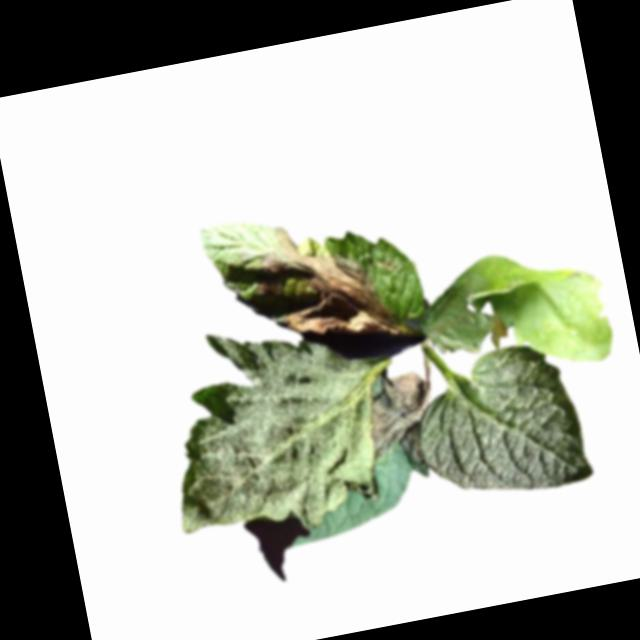Late_blight: (166, 315, 347, 508), (417, 234, 619, 392), (243, 208, 404, 361), (362, 367, 442, 475)
healthy: (404, 335, 595, 511)
